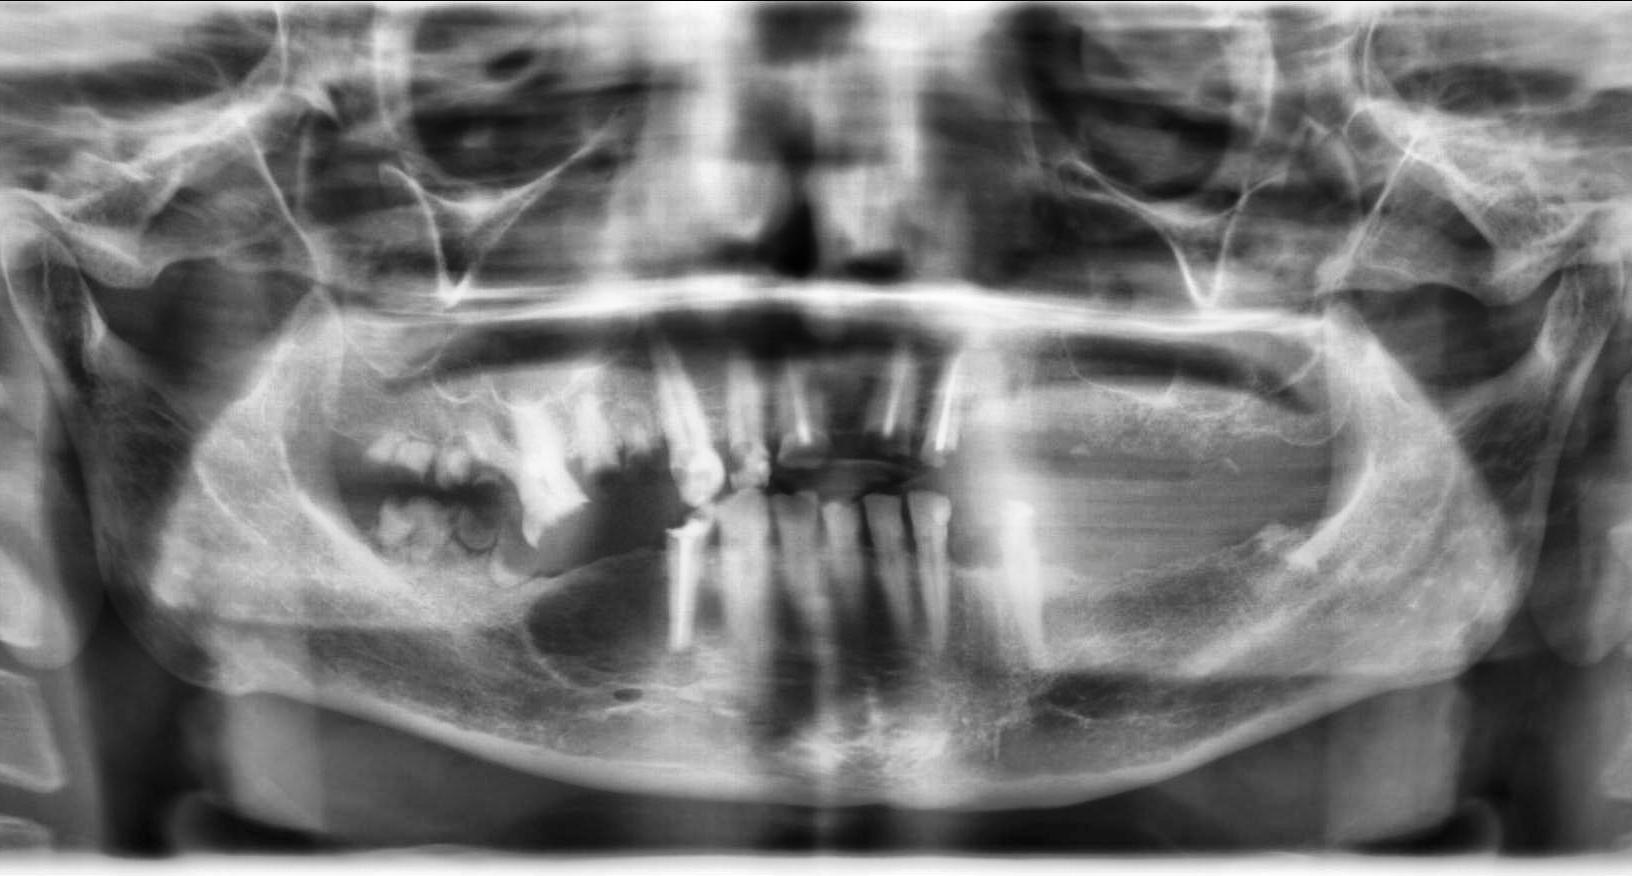radikuler: (524, 549, 733, 689)
